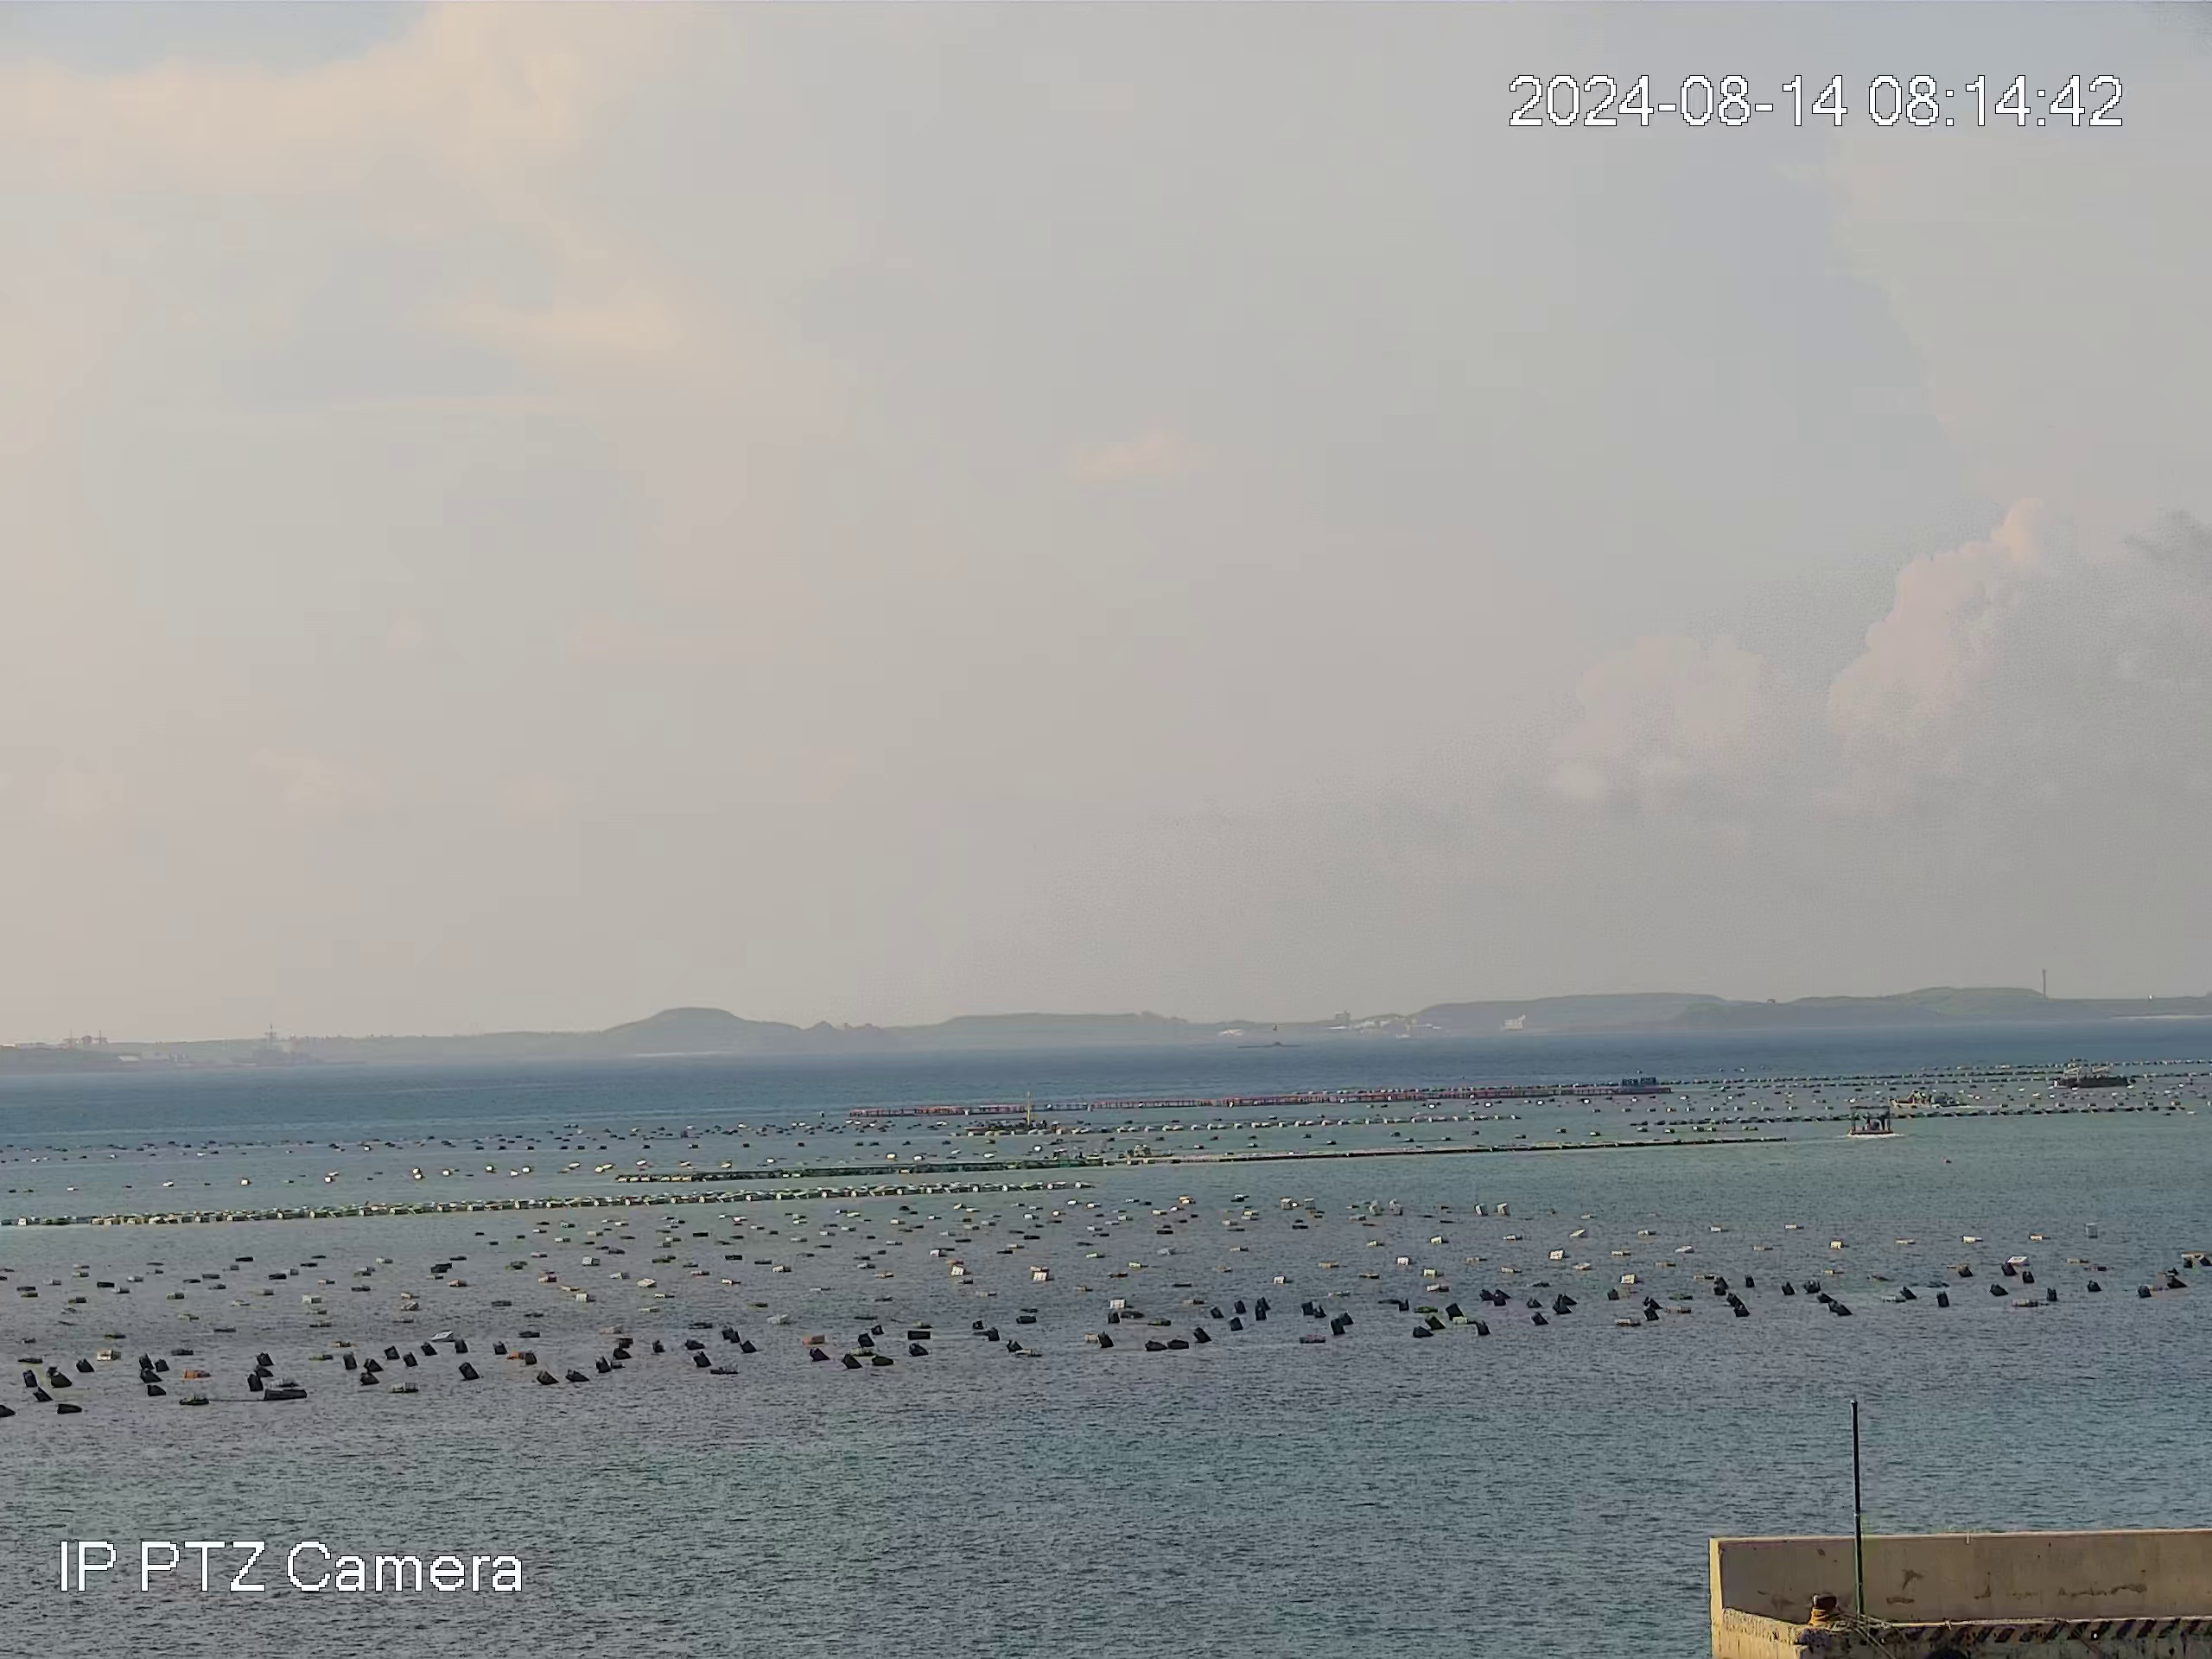boat: (2052, 1066, 2132, 1089), (1848, 1107, 1897, 1134), (1890, 1089, 1965, 1107)
